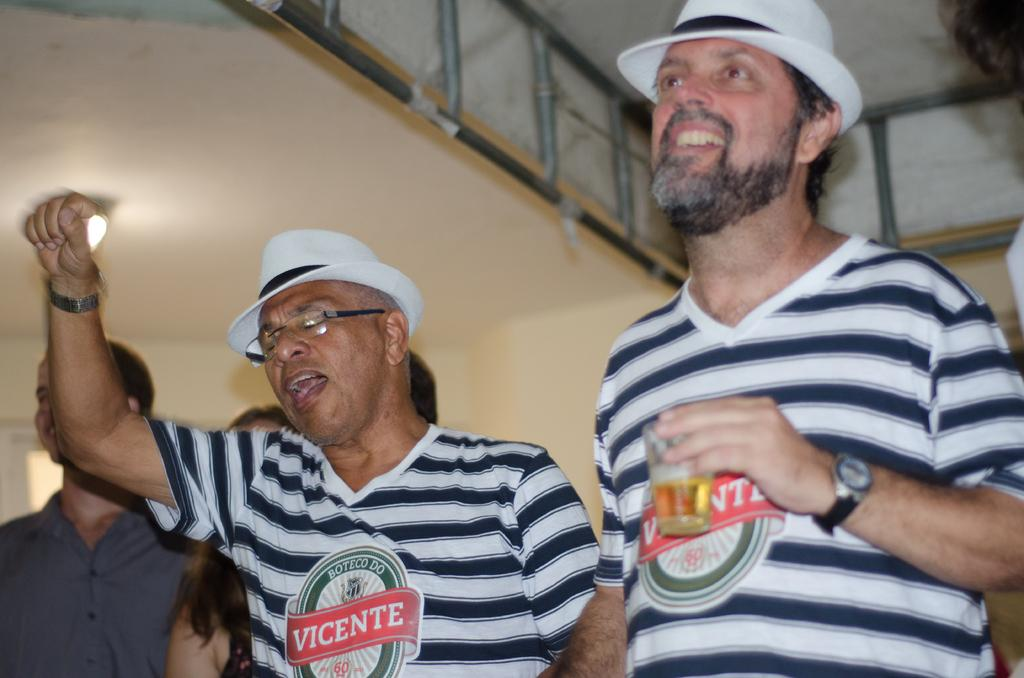Hat: (616, 0, 864, 138), (227, 228, 423, 368)
